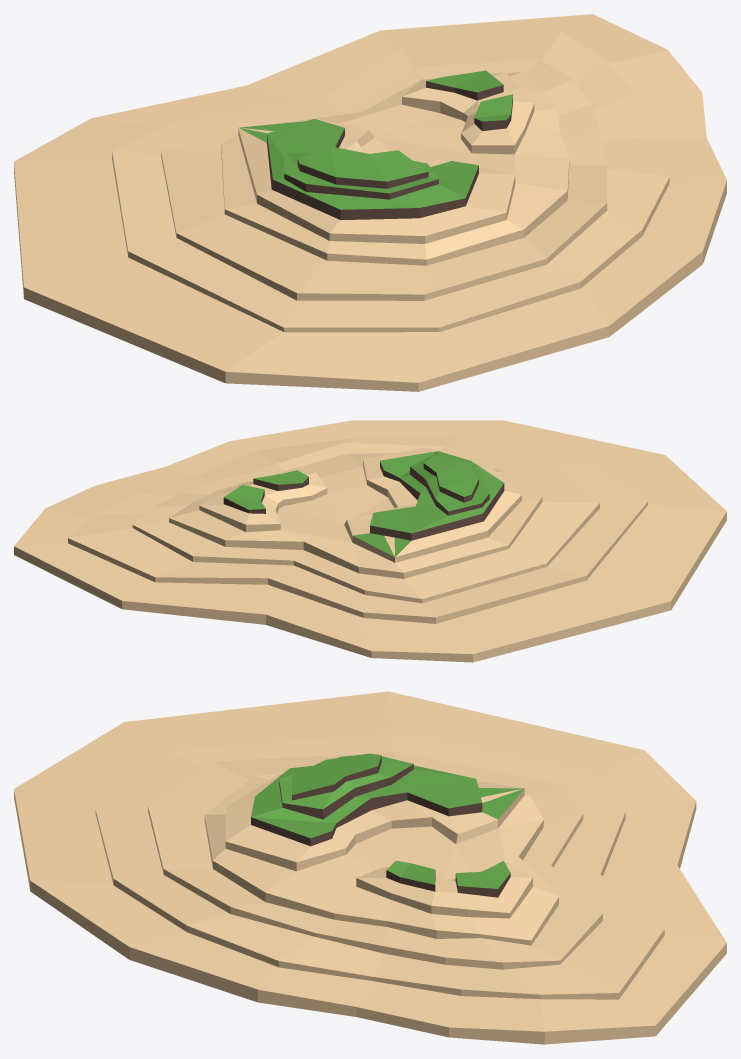
File: is_5_sable.fbx
3 renders of one model, top to bottom at view 1: azimuth 30°, elevation 25°; view 2: azimuth 150°, elevation 25°; view 3: azimuth 270°, elevation 25°, orthographic. The views are drawn at different scales.
Visible parts, largest first — view 1: island_5; view 2: island_5; view 3: island_5.
Part boxes in pixels (box(x1,y1,x2,y2)): island_5: box(14, 14, 726, 391); island_5: box(14, 420, 726, 662); island_5: box(14, 691, 726, 1044).
Size of the model in its own units: 2124 by 237 by 1872.
